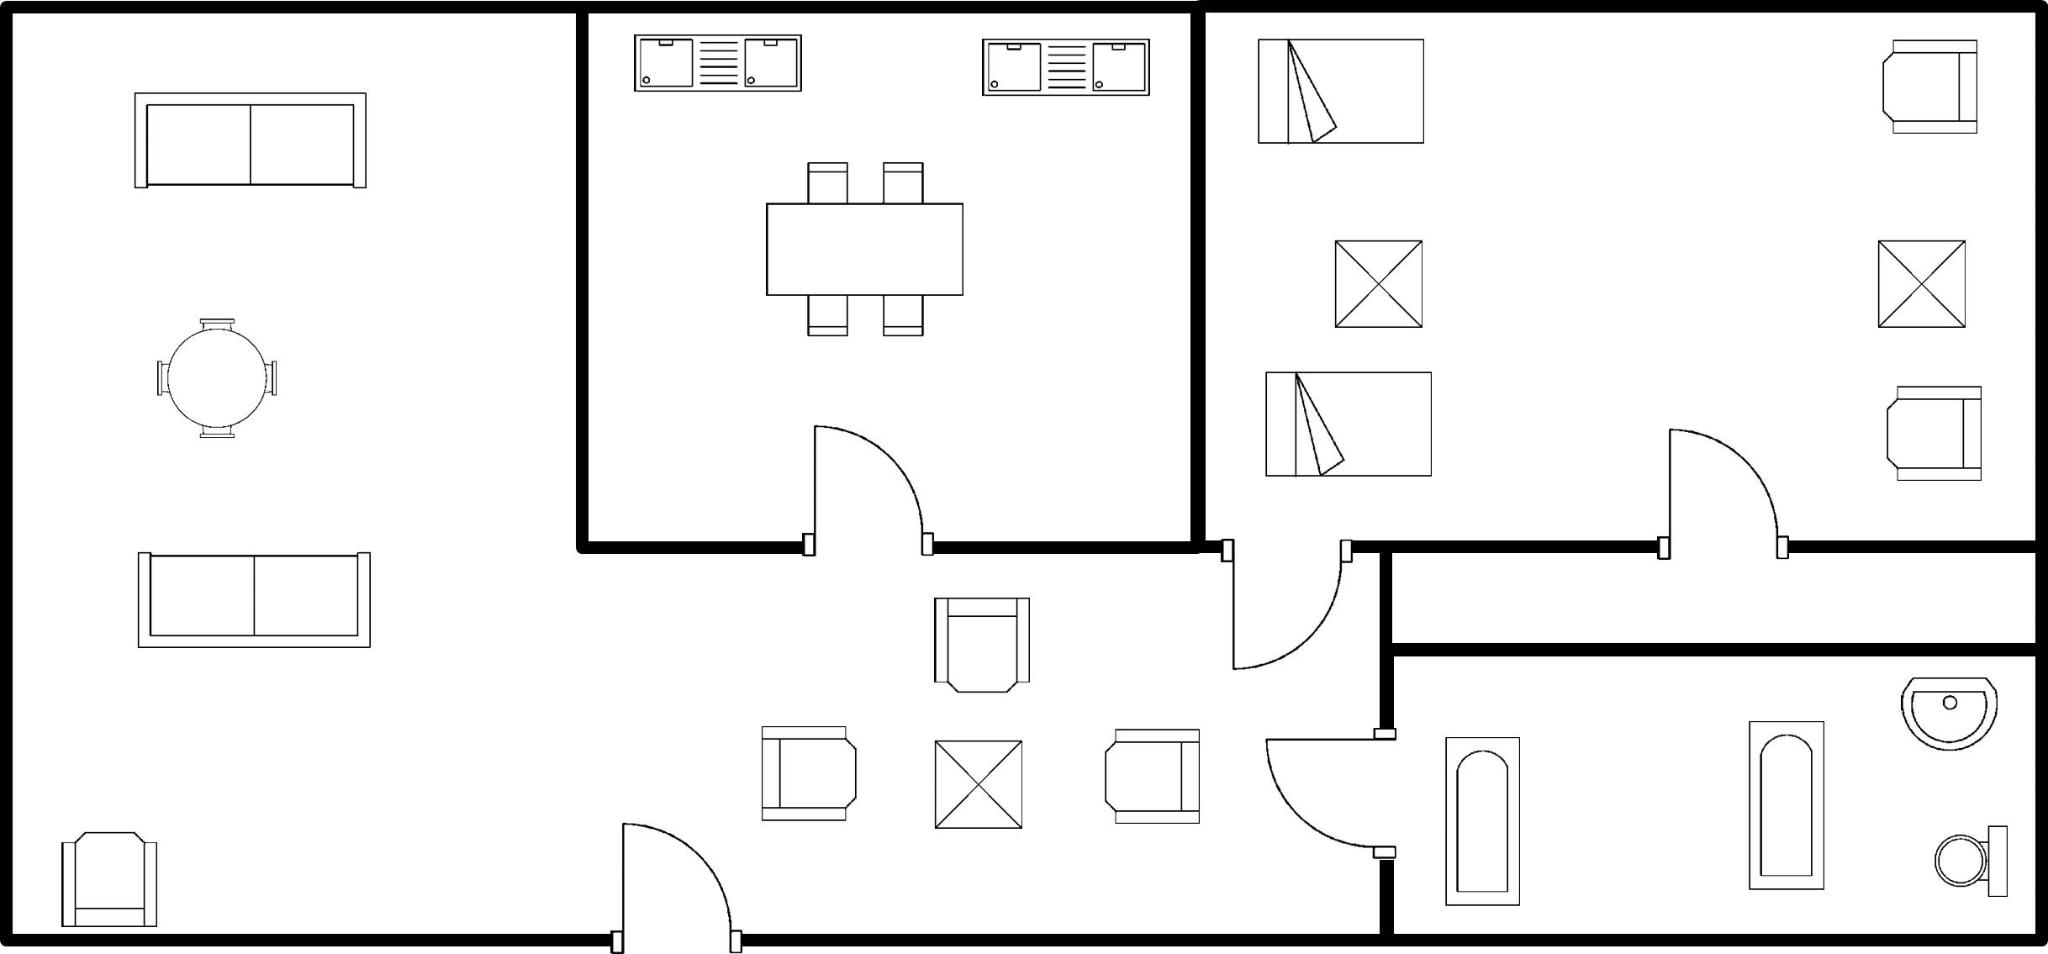sink: (615, 26, 811, 108), (967, 30, 1157, 103)
